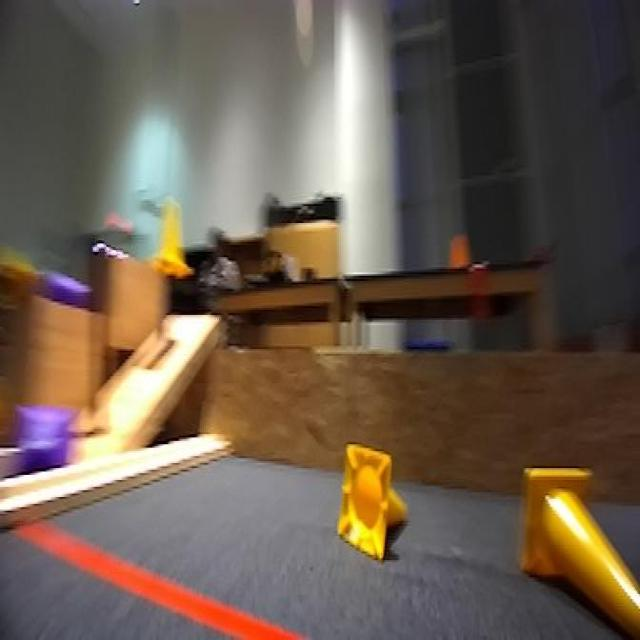frc_cone: (517, 459, 640, 640), (336, 441, 403, 558), (153, 194, 195, 284)
frc_cube: (19, 400, 63, 470), (41, 259, 89, 313)
